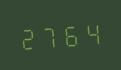four: (81, 18, 101, 47)
seven: (39, 21, 59, 50)
six: (60, 20, 80, 48)
two: (18, 22, 38, 51)
